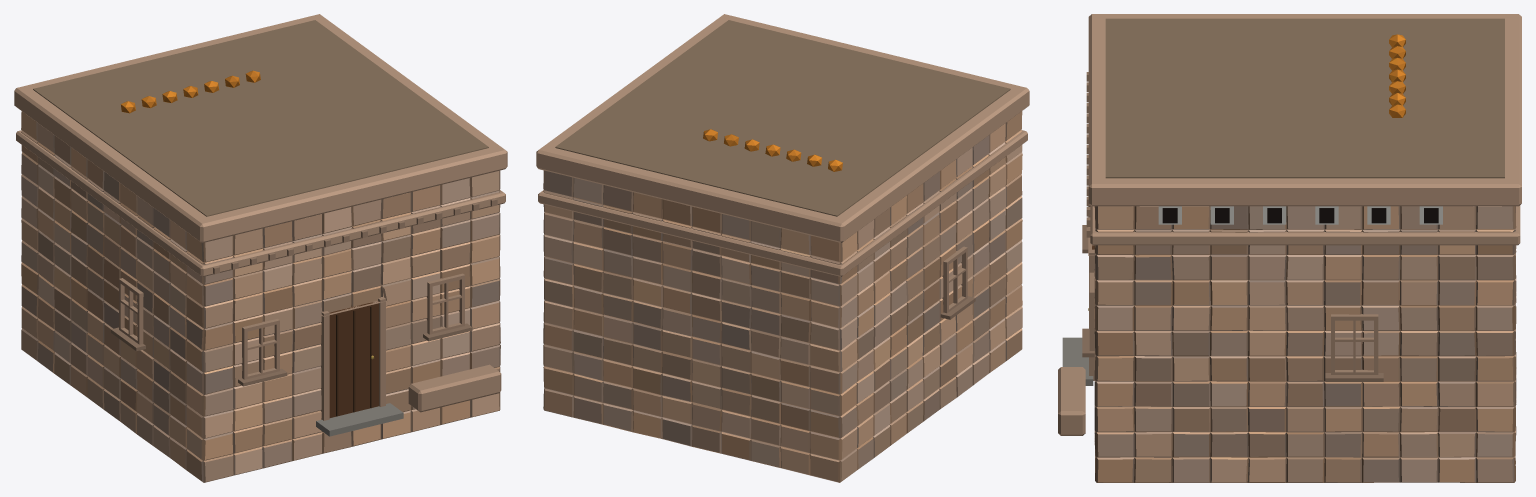
File: house_tuff_2.glb
3 views of the same model, side by side, from view 1: azimuth 30°, elevation 25°; view 2: azimuth 150°, elevation 25°; view 3: azimuth 270°, elevation 25° (orthographic). The views are drawn at different scales.
Visible parts, largest first — view 1: box; view 2: box; view 3: box.
Part boxes in pixels (<box>): box: <box>14,14,507,482</box>; box: <box>536,14,1029,482</box>; box: <box>1058,14,1521,482</box>.
Size of the model in its own units: 6.86 by 5.63 by 7.55.
